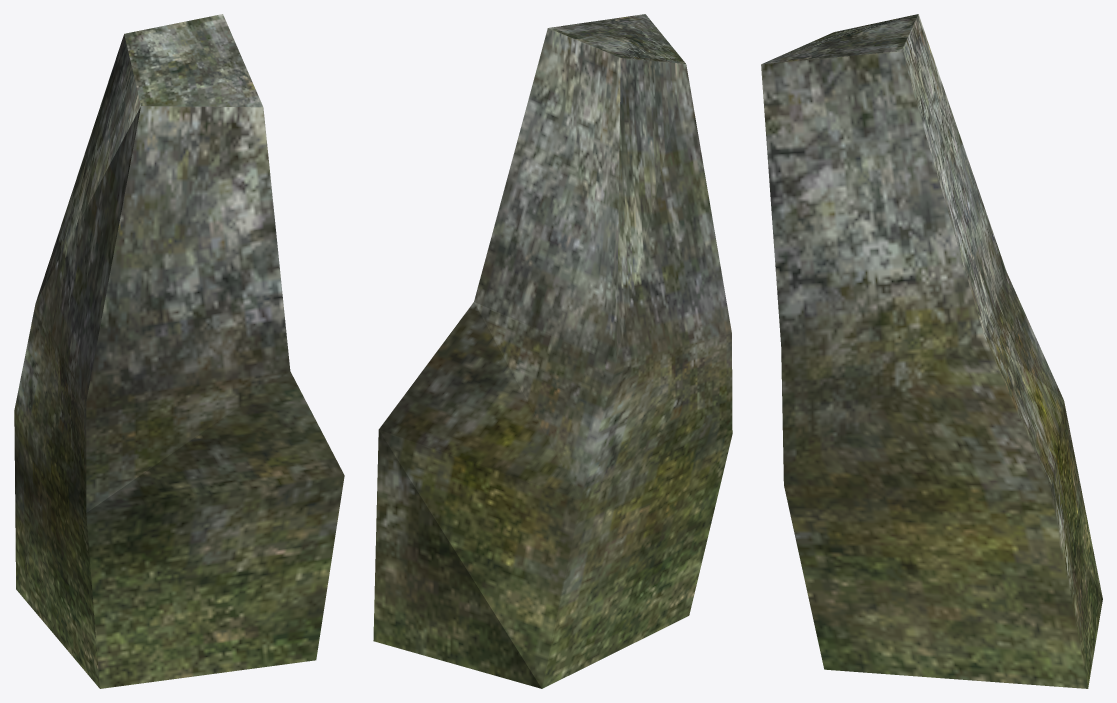
File: OZ_05_nk_rock02E.glb
3 renders of one model, left to right at view 1: azimuth 30°, elevation 25°; view 2: azimuth 150°, elevation 25°; view 3: azimuth 270°, elevation 25°, orthographic. The views are drawn at different scales.
Parts seen in each view (by area): view 1: OM_05_nk_rock02E; view 2: OM_05_nk_rock02E; view 3: OM_05_nk_rock02E.
Boxes of the visible parts, x1=… form: OM_05_nk_rock02E: x1=14, y1=14, x2=344, y2=688; OM_05_nk_rock02E: x1=373, y1=14, x2=732, y2=688; OM_05_nk_rock02E: x1=761, y1=14, x2=1102, y2=688.
Size of the model in its own units: 0.9451 by 2.04 by 1.06.
1 material, 1 textured.
